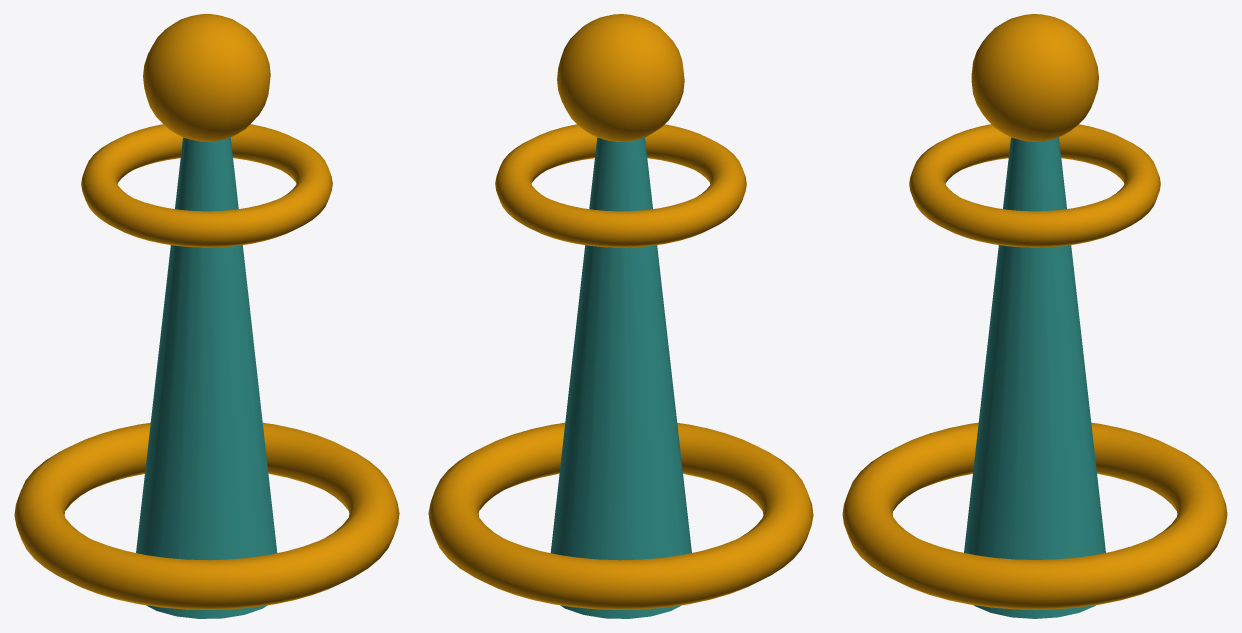
Rendered from HeatPole.fbx.
3 views of the same model, side by side, from view 1: azimuth 30°, elevation 25°; view 2: azimuth 150°, elevation 25°; view 3: azimuth 270°, elevation 25° (orthographic).
Visible parts, largest first — view 1: HeatPole; view 2: HeatPole; view 3: HeatPole.
Part boxes in pixels (x1,y1,x2,y2): HeatPole: (14,14,399,618); HeatPole: (428,14,813,618); HeatPole: (842,14,1227,618).
Size of the model in its own units: 60.67 by 60.67 by 98.66.
